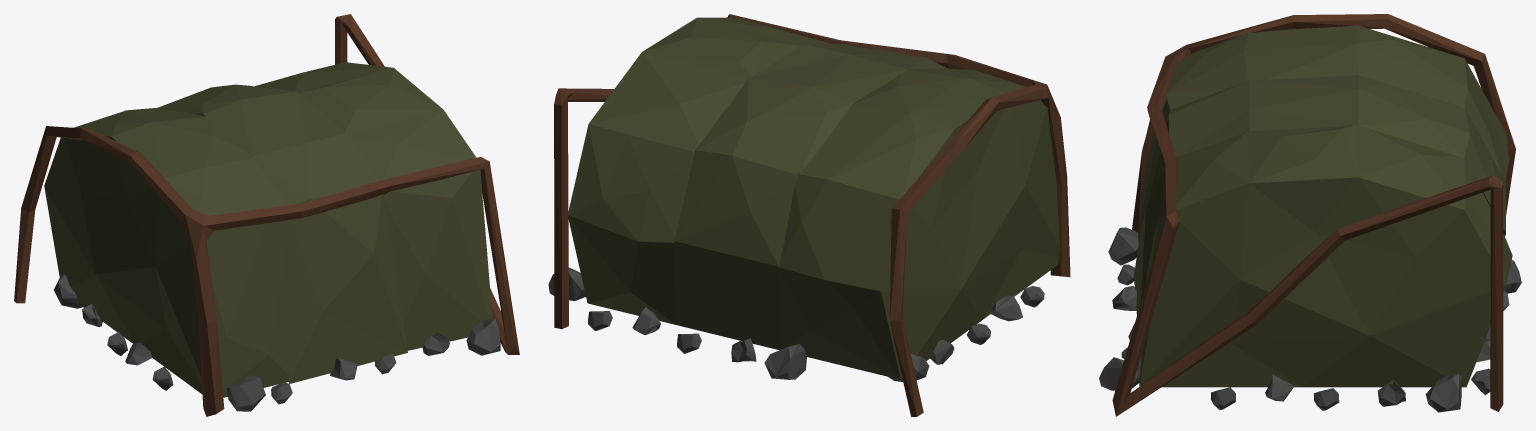
The model's file is LPWarPack_Tent3.fbx.
3 views of the same model, side by side, from view 1: azimuth 30°, elevation 25°; view 2: azimuth 150°, elevation 25°; view 3: azimuth 270°, elevation 25° (orthographic). The views are drawn at different scales.
Visible parts, largest first — view 1: Tent3; view 2: Tent3; view 3: Tent3.
Part boxes in pixels (box(x1,y1,x2,y2)): Tent3: box(14, 14, 519, 416); Tent3: box(548, 14, 1070, 416); Tent3: box(1099, 14, 1521, 416).
Bounding box in the file's own units: 378 × 221 × 353.
